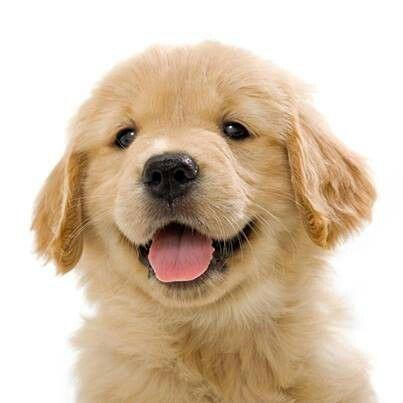puppy-dog: (32, 36, 379, 403)
